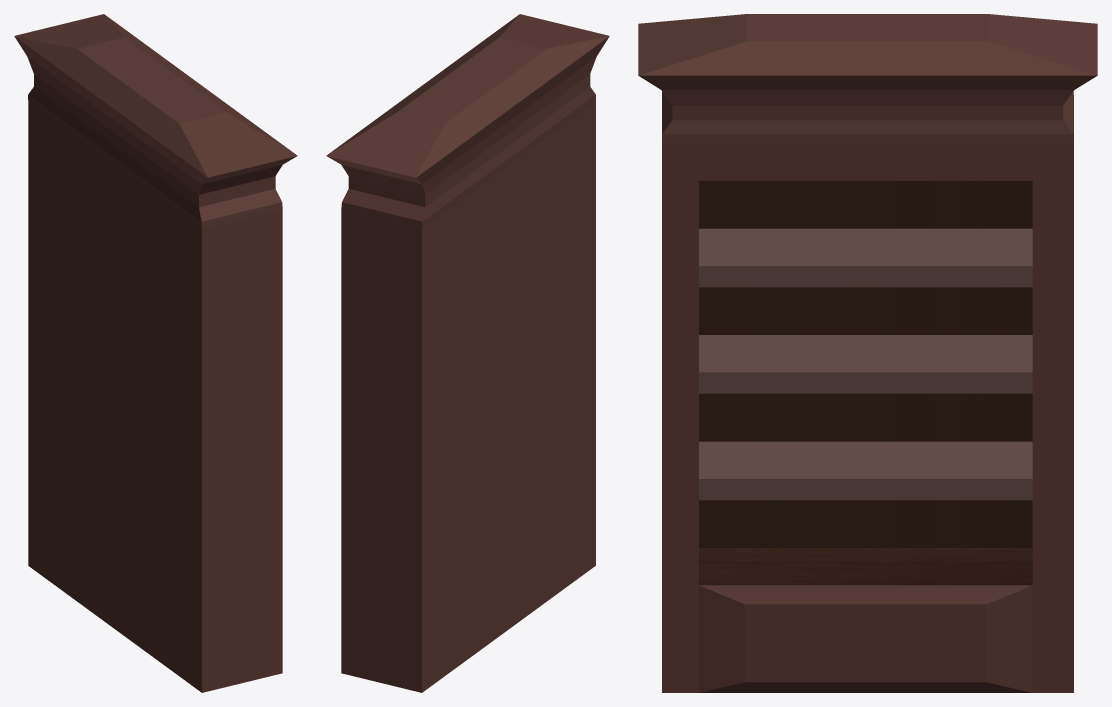
Rendered from broken_FlaskSquare.fbx_floor3.fbx_Book_stuff.fbx.
3 renders of one model, left to right at view 1: azimuth 30°, elevation 25°; view 2: azimuth 150°, elevation 25°; view 3: azimuth 270°, elevation 25°, orthographic. The views are drawn at different scales.
Visible parts, largest first — view 1: Cube.013; view 2: Cube.013; view 3: Cube.013.
Part boxes in pixels (x1=…): Cube.013: x1=14, y1=14, x2=297, y2=692; Cube.013: x1=326, y1=14, x2=609, y2=692; Cube.013: x1=638, y1=14, x2=1097, y2=692.
Size of the model in its own units: 26.45 by 148 by 96.56.
